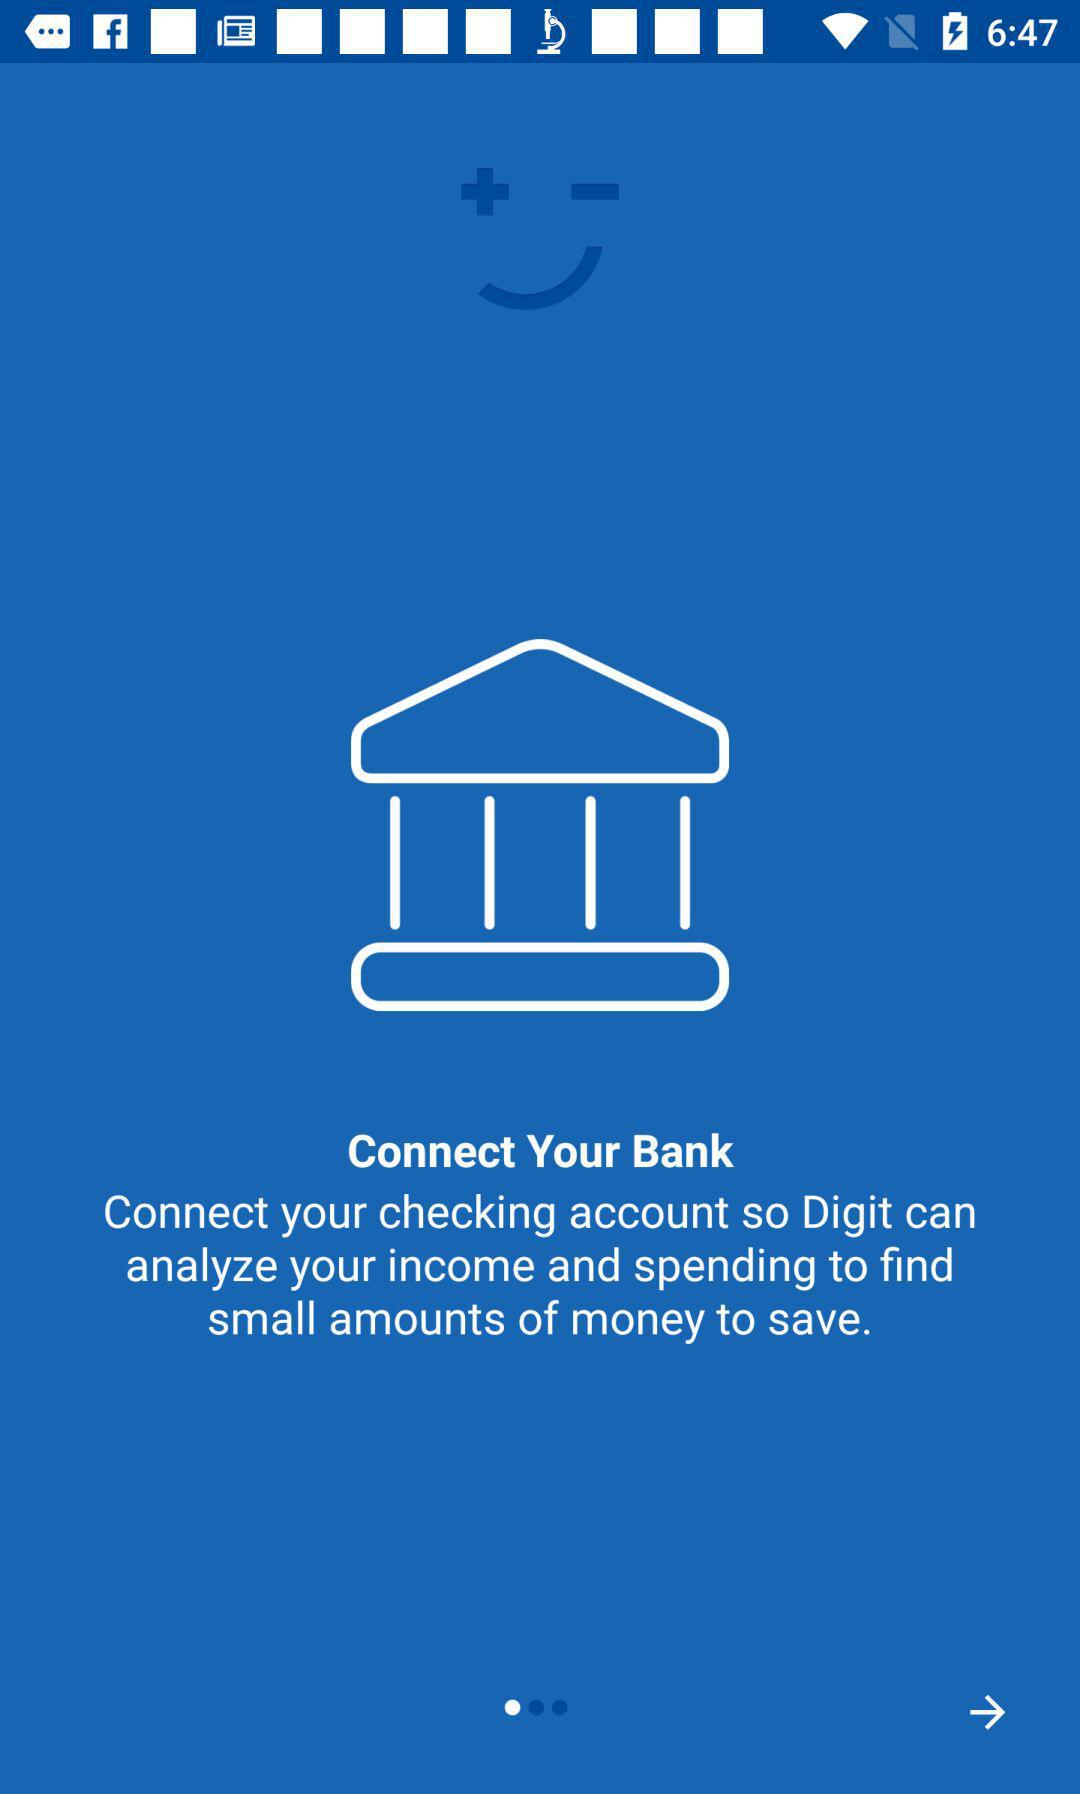Icon: (969, 1693, 1007, 1731)
Image: (350, 637, 732, 1015), (459, 165, 623, 315)
PageIndicator: (503, 1697, 569, 1718)
Text: (102, 1193, 978, 1347), (348, 1132, 735, 1171)
UpperTaskBar: (1, 1, 1080, 64)
